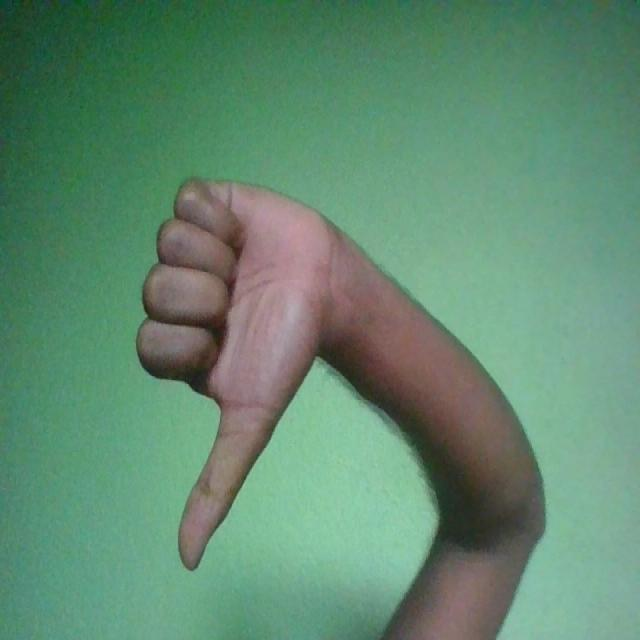Dislike: (137, 177, 338, 574)
